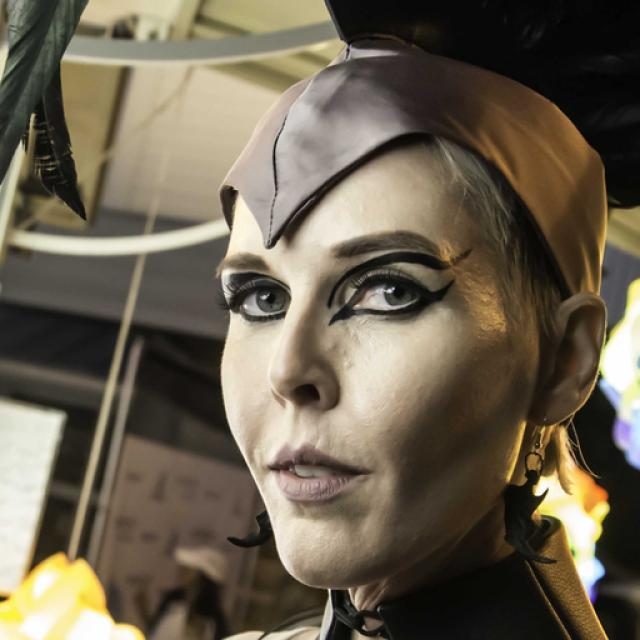surprise: (212, 131, 541, 592)
